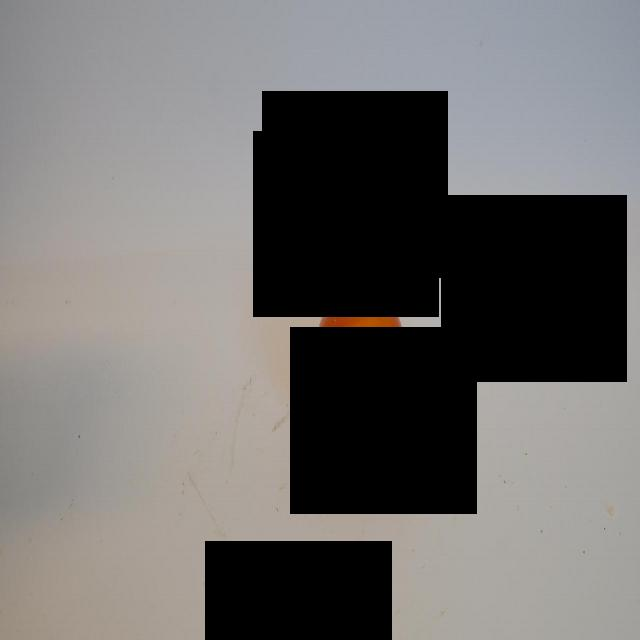tomato: (314, 284, 411, 453)
